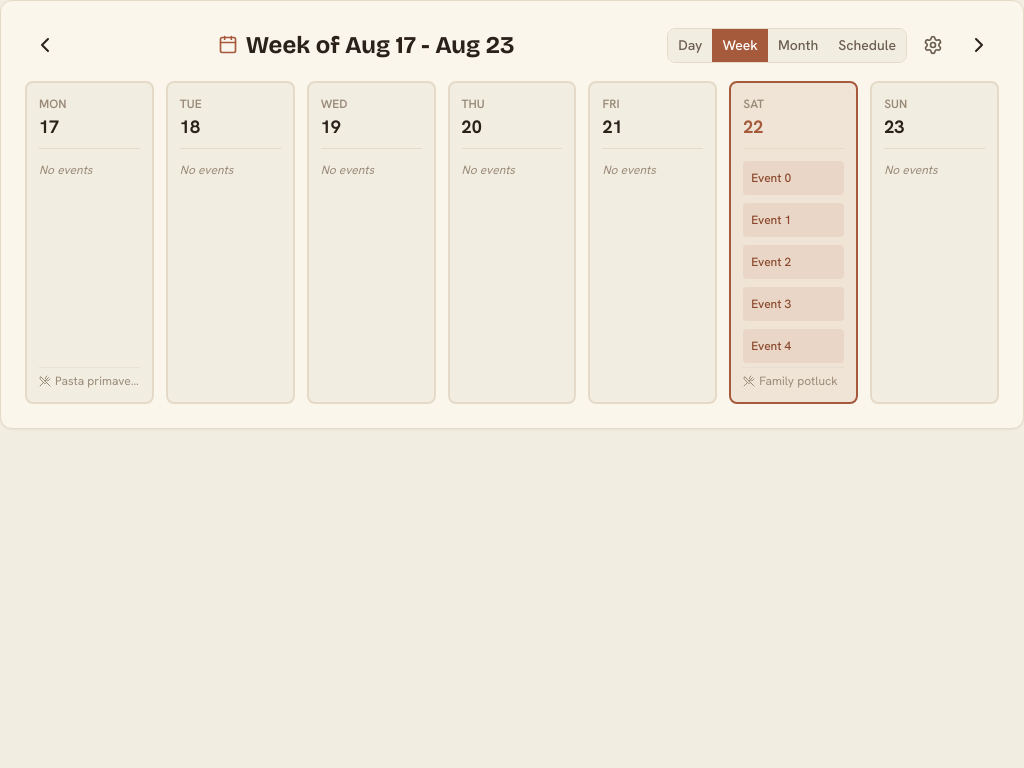
Scenario: WeekCalendar — interactions › view toggle (FR-145) › "+N more" in the month view opens that day in the day view
Step 1. Click the button "Month" → (798, 45), box x1=768 y1=28 x2=828 y2=62
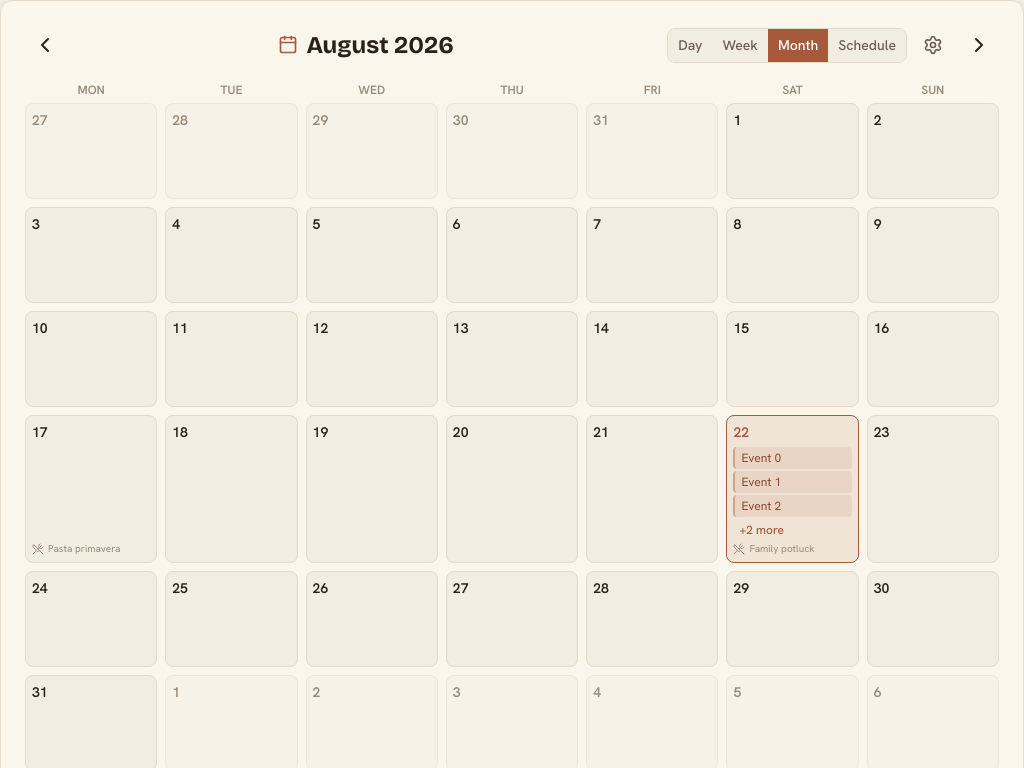
Step 2. Click the button "+2 more" → (762, 530), box x1=733 y1=521 x2=790 y2=539
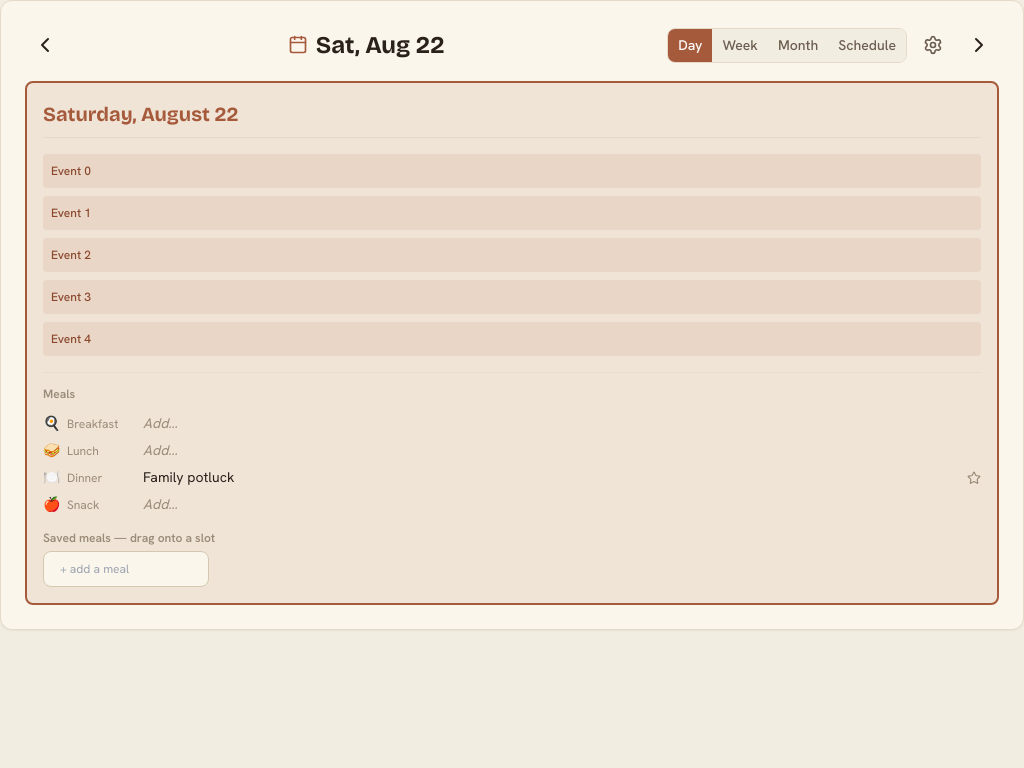
Check: the element with test id "day-cell-2026-08-22" is shown
